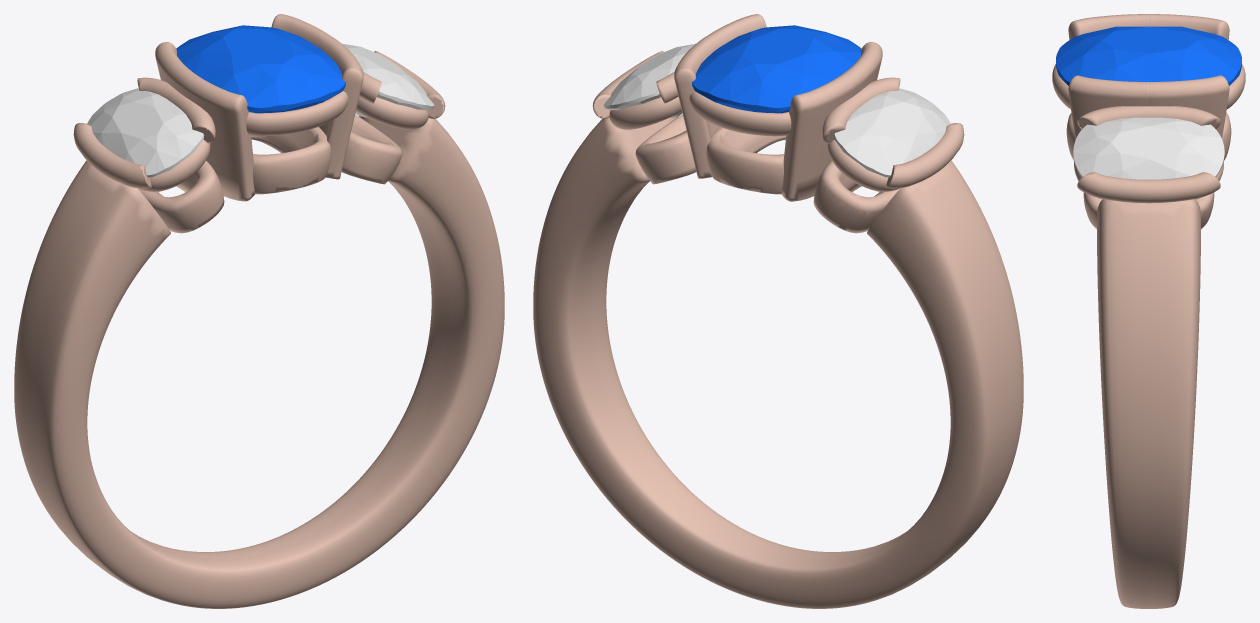
File: bluesapphire-cushion-rosegold-halfmoonbezel-straighttaperedband-3stone.glb
The picture shows the model from 3 angles, left to right: view 1: azimuth 30°, elevation 25°; view 2: azimuth 150°, elevation 25°; view 3: azimuth 270°, elevation 25°; orthographic projection.
Visible parts, largest first — view 1: metal.003, stone, side.001, side; view 2: metal.003, stone, side.001, side; view 3: metal.003, stone, side.
Part boxes in pixels (bbox=[...]): metal.003: bbox=[14, 14, 504, 608]; stone: bbox=[176, 25, 345, 113]; side.001: bbox=[87, 88, 204, 177]; side: bbox=[342, 43, 434, 117]; metal.003: bbox=[533, 14, 1023, 608]; stone: bbox=[692, 25, 861, 113]; side.001: bbox=[833, 88, 950, 177]; side: bbox=[603, 43, 695, 117]; metal.003: bbox=[1052, 14, 1245, 608]; stone: bbox=[1056, 26, 1241, 85]; side: bbox=[1073, 117, 1224, 179].
Bounding box in the file's own units: 20.1 × 23.04 × 7.42.
